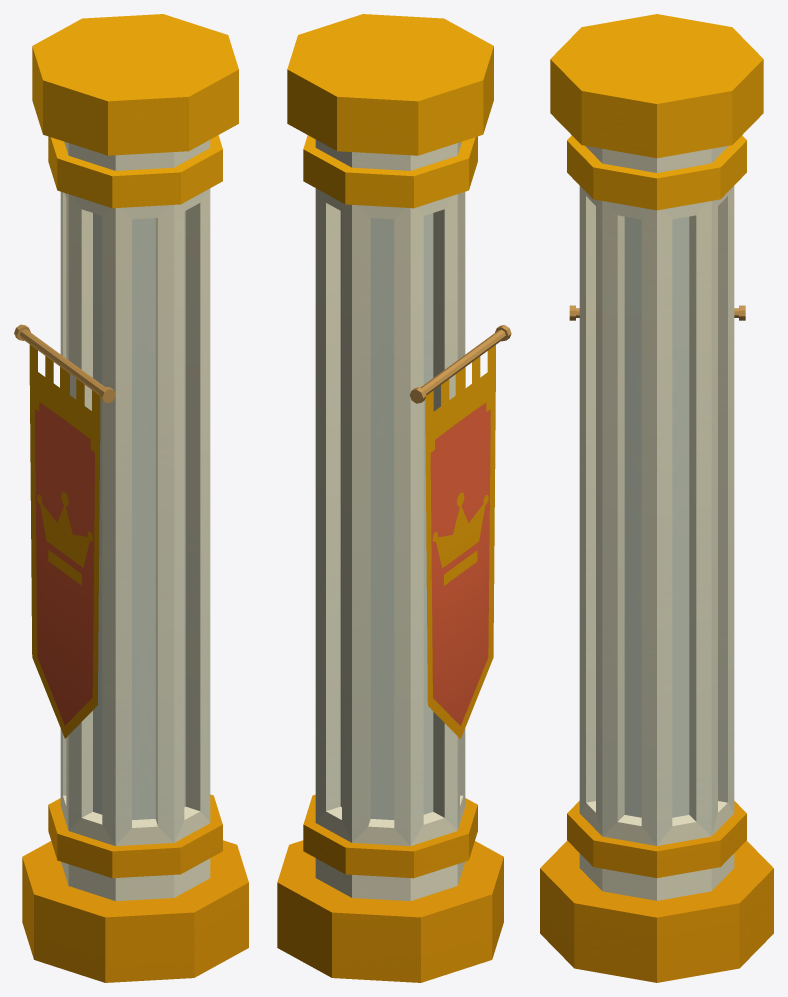
Rendered from Column+single.fbx.
The picture shows the model from 3 angles, left to right: view 1: azimuth 30°, elevation 25°; view 2: azimuth 150°, elevation 25°; view 3: azimuth 270°, elevation 25°; orthographic projection.
Visible parts, largest first — view 1: Column single; view 2: Column single; view 3: Column single.
Part boxes in pixels (bbox=[...]): Column single: bbox=[14, 14, 248, 982]; Column single: bbox=[277, 14, 511, 982]; Column single: bbox=[540, 14, 773, 982].
Size of the model in its own units: 97.75 by 403 by 97.75.
